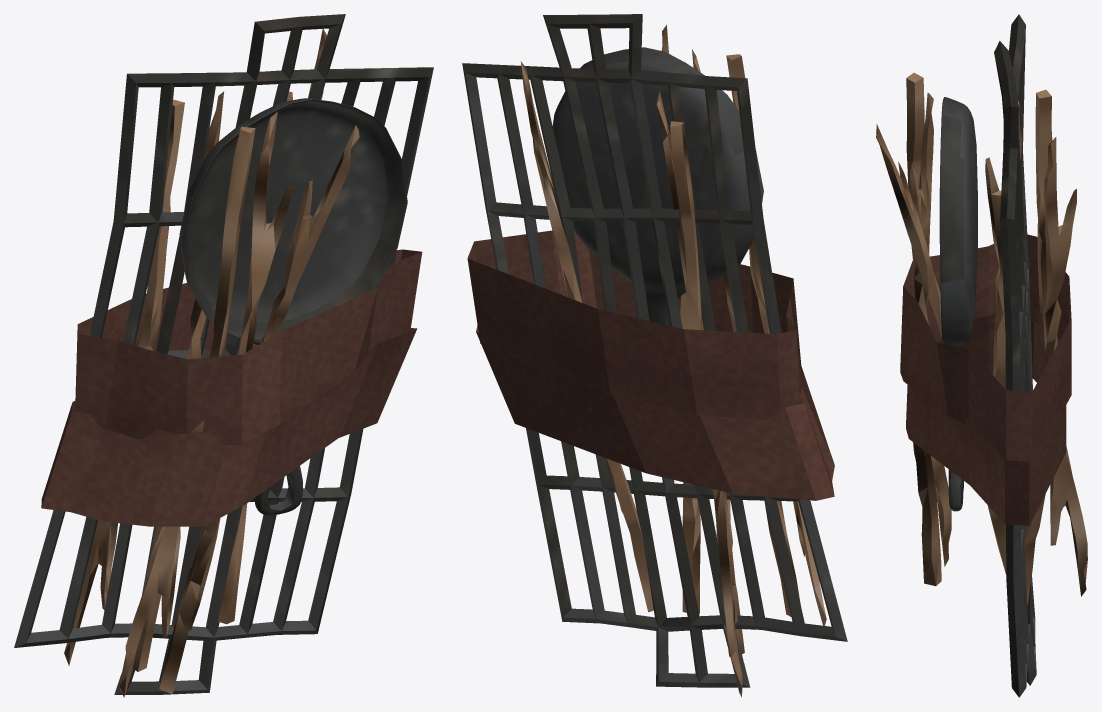
File: CampingKit.glb
3 views of the same model, side by side, from view 1: azimuth 30°, elevation 25°; view 2: azimuth 150°, elevation 25°; view 3: azimuth 270°, elevation 25° (orthographic). The views are drawn at different scales.
Parts seen in each view (by area): view 1: CampfireKit; view 2: CampfireKit; view 3: CampfireKit.
Boxes of the visible parts, x1=… form: CampfireKit: x1=14, y1=14, x2=433, y2=697; CampfireKit: x1=462, y1=14, x2=847, y2=697; CampfireKit: x1=876, y1=14, x2=1087, y2=697.
Size of the model in its own units: 0.6353 by 1 by 0.2918.
Materials: 3 (3 with a texture image).
